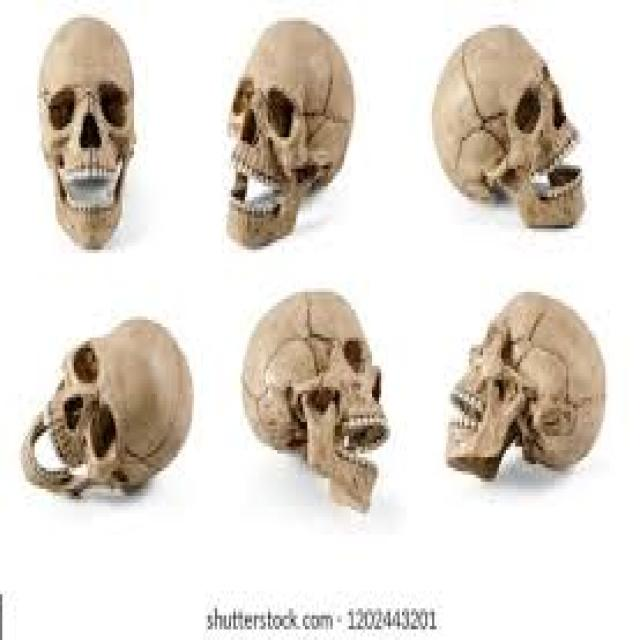skull: (228, 277, 397, 539)
